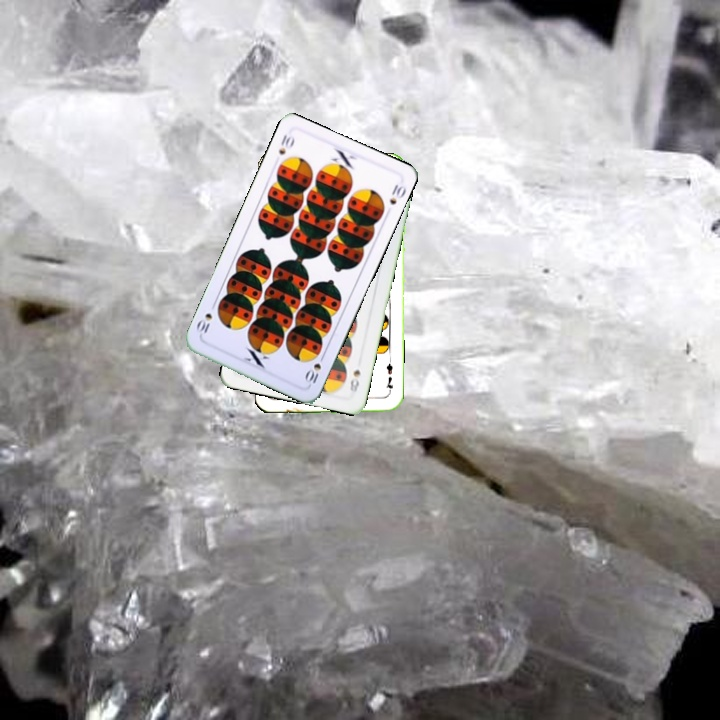E7: (382, 357, 396, 397)
S10: (301, 350, 328, 388), (274, 130, 297, 157)
S8: (346, 366, 363, 395)
